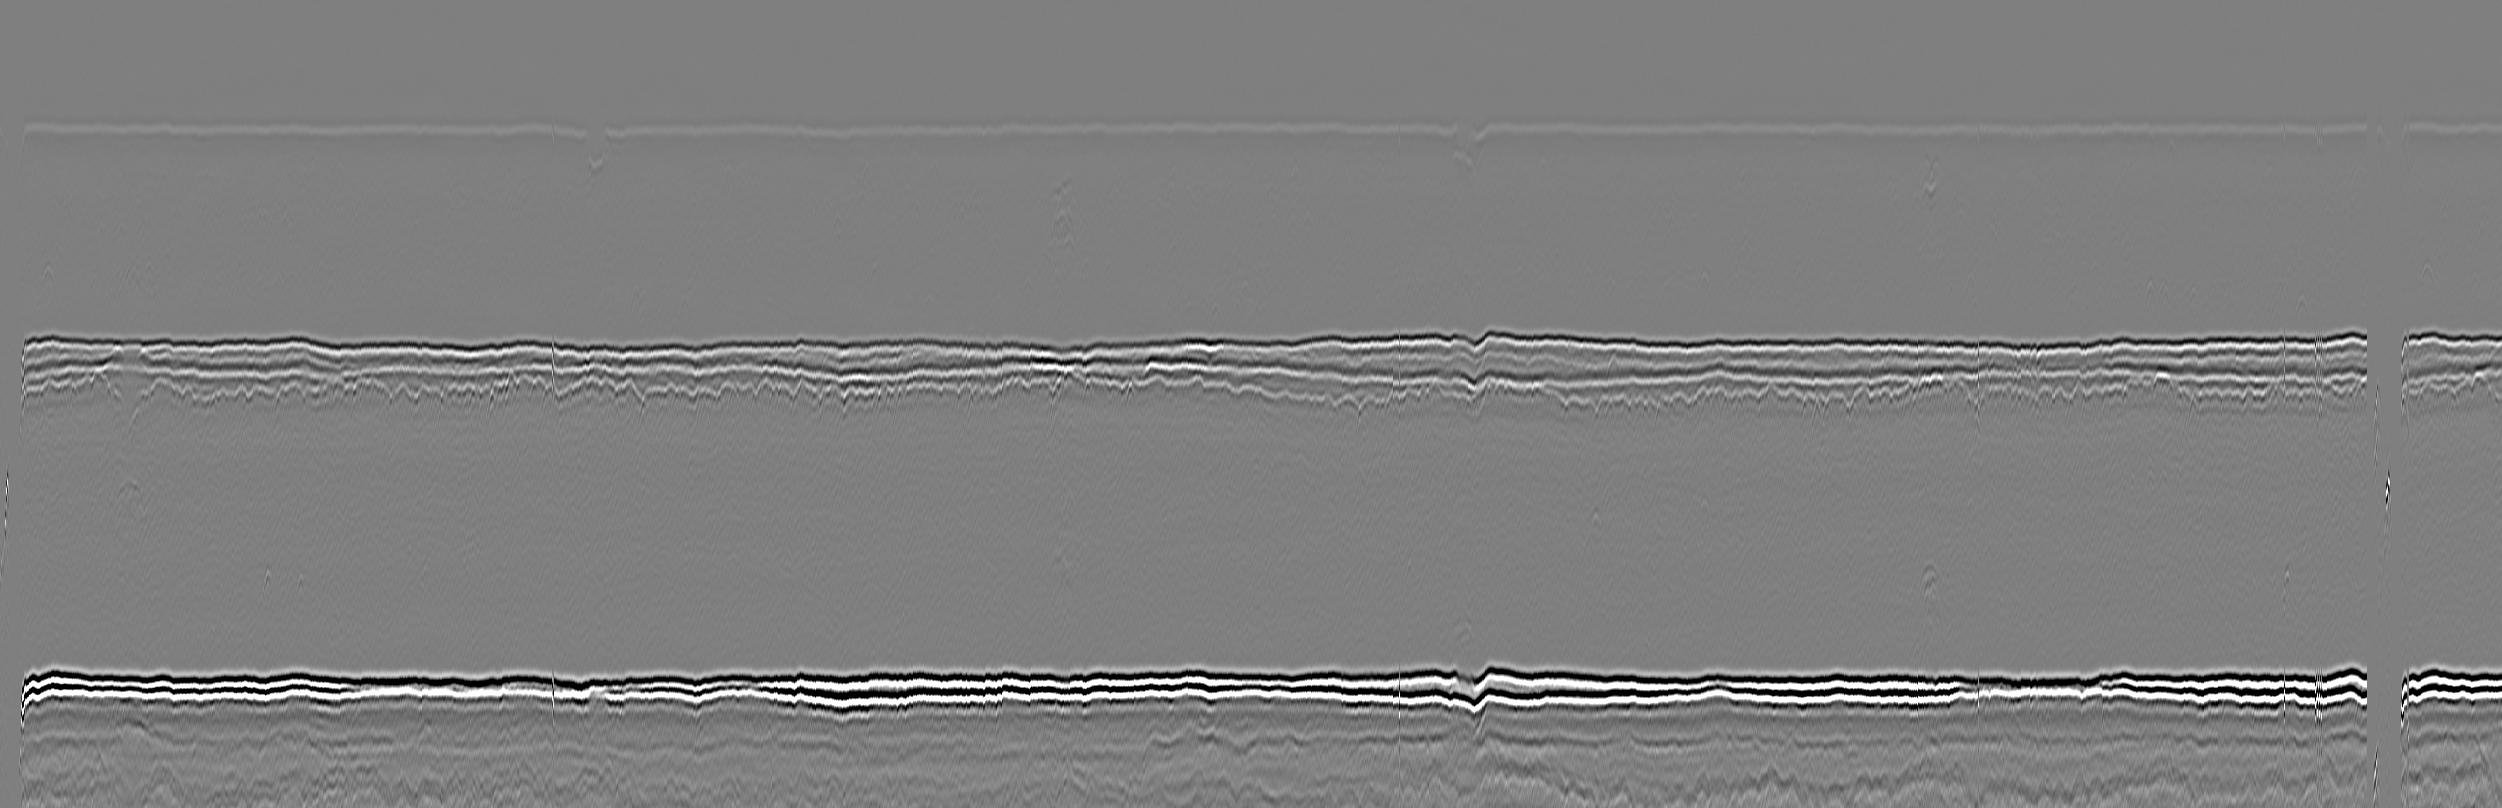fault: (2346, 287, 2432, 479), (1444, 303, 1509, 447), (1435, 93, 1502, 198), (2362, 101, 2430, 198), (566, 104, 625, 201)
